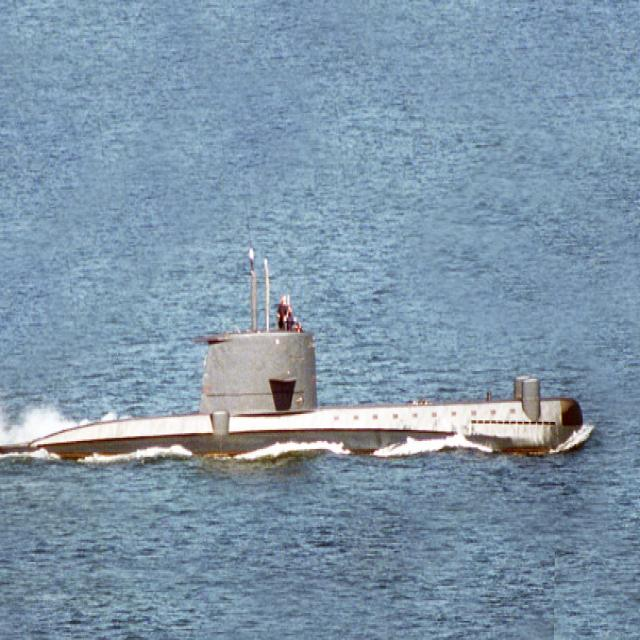submarine: (1, 328, 586, 465)
